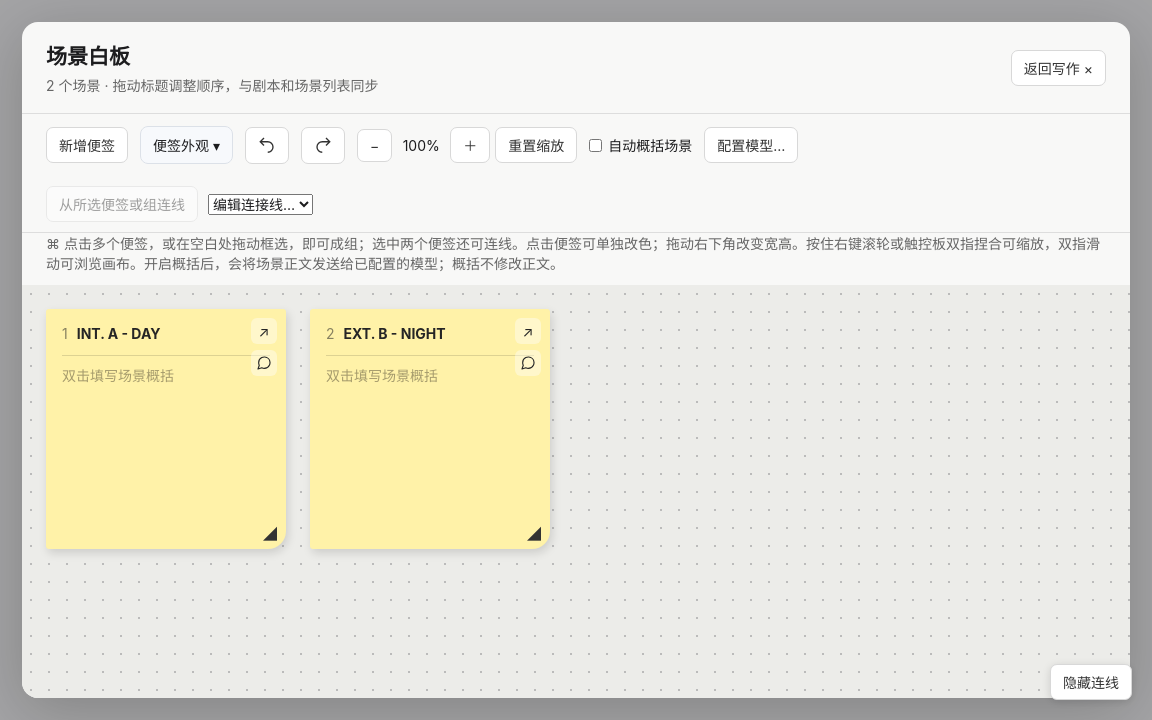
Test: 新增便签失败保留输入，不留下半张便签
Click the button "新增便签".
click(87, 145)  # box top-left (46, 127), bottom-right (128, 163)
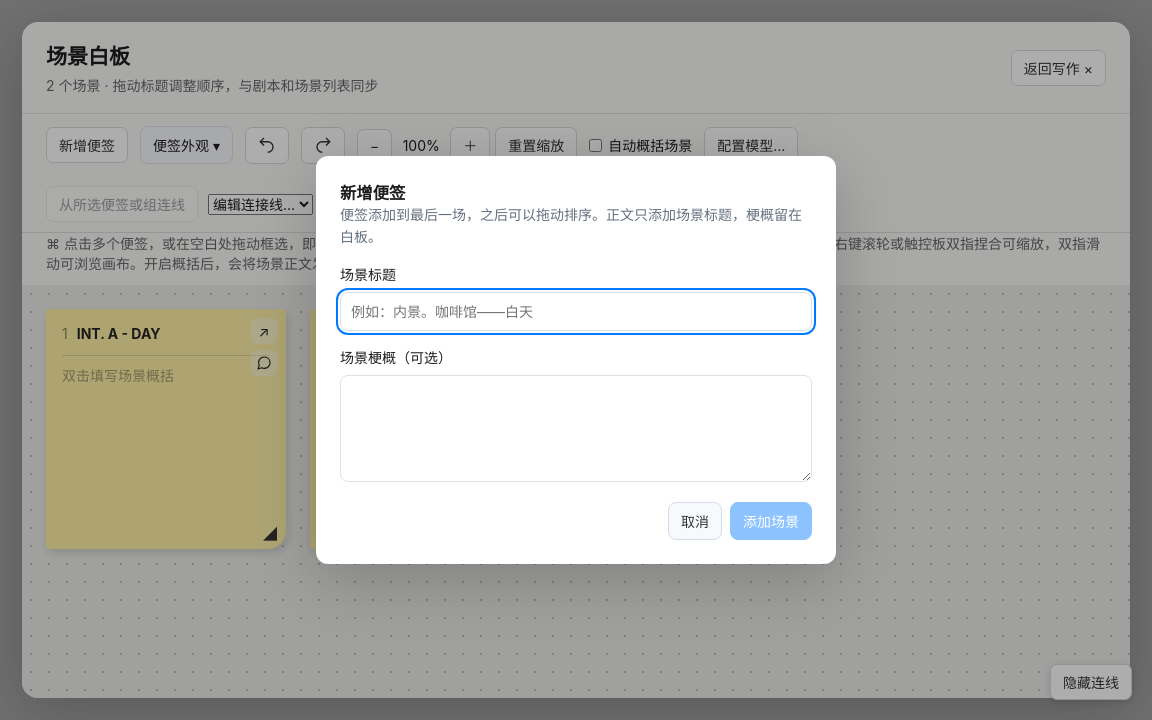
Type "新场景" into the field named "新便签场景标题".
click(576, 312); type("新场景")  # box top-left (340, 292), bottom-right (812, 331)
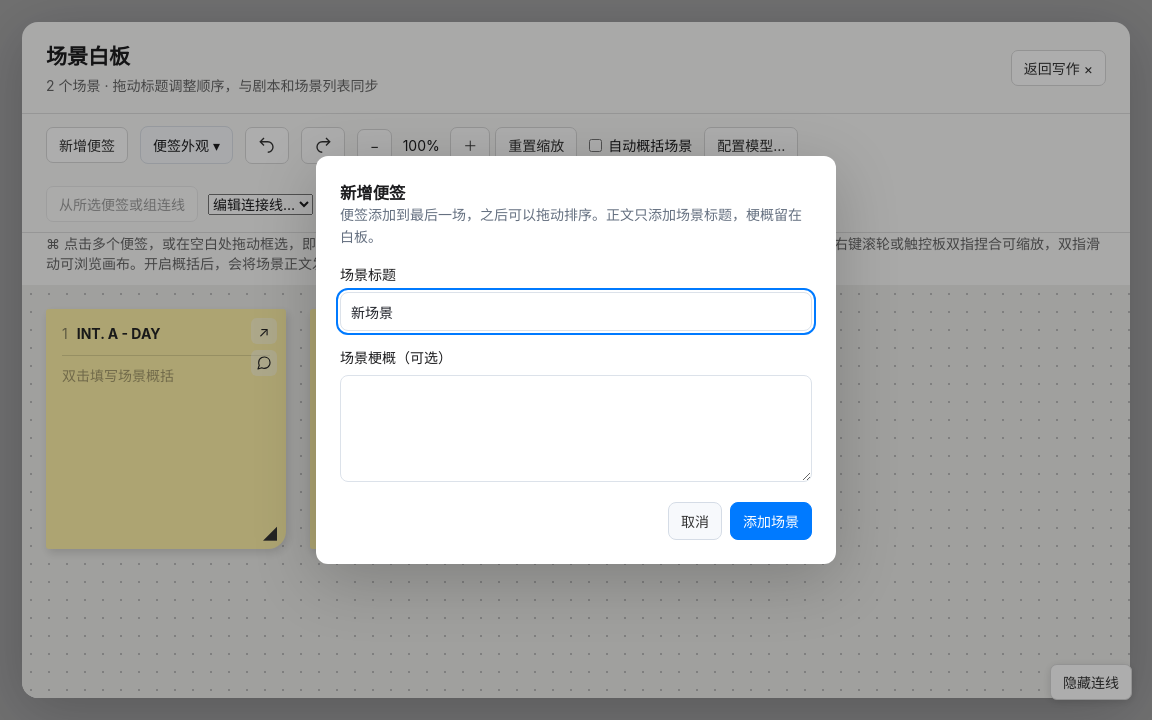
Click the button "添加场景".
click(771, 521)  # box top-left (730, 502), bottom-right (812, 540)
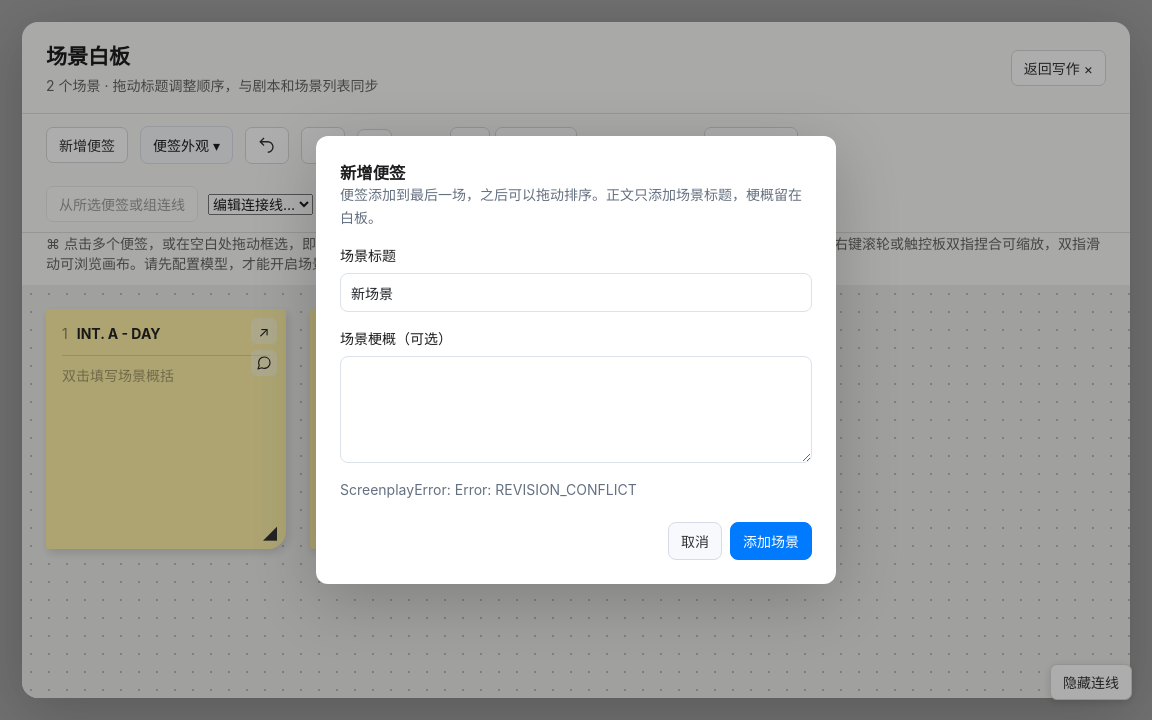
Now the message shows "REVISION_CONFLICT", box top-left (340, 481), bottom-right (637, 498)
